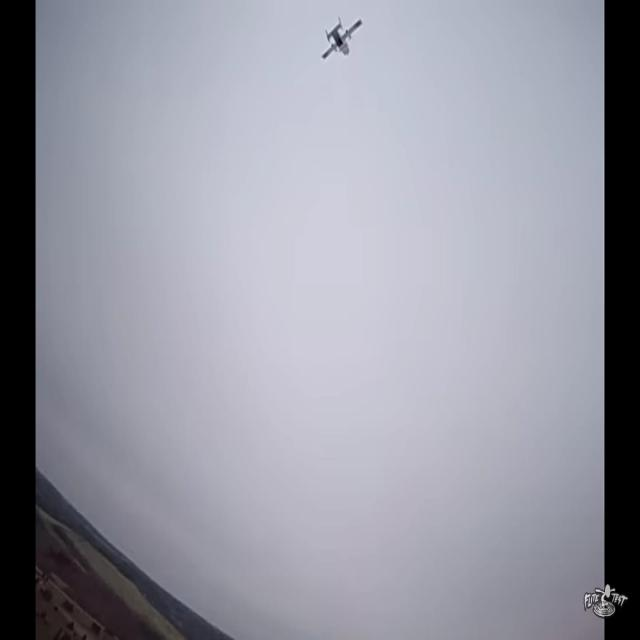iha: (321, 14, 363, 62)
